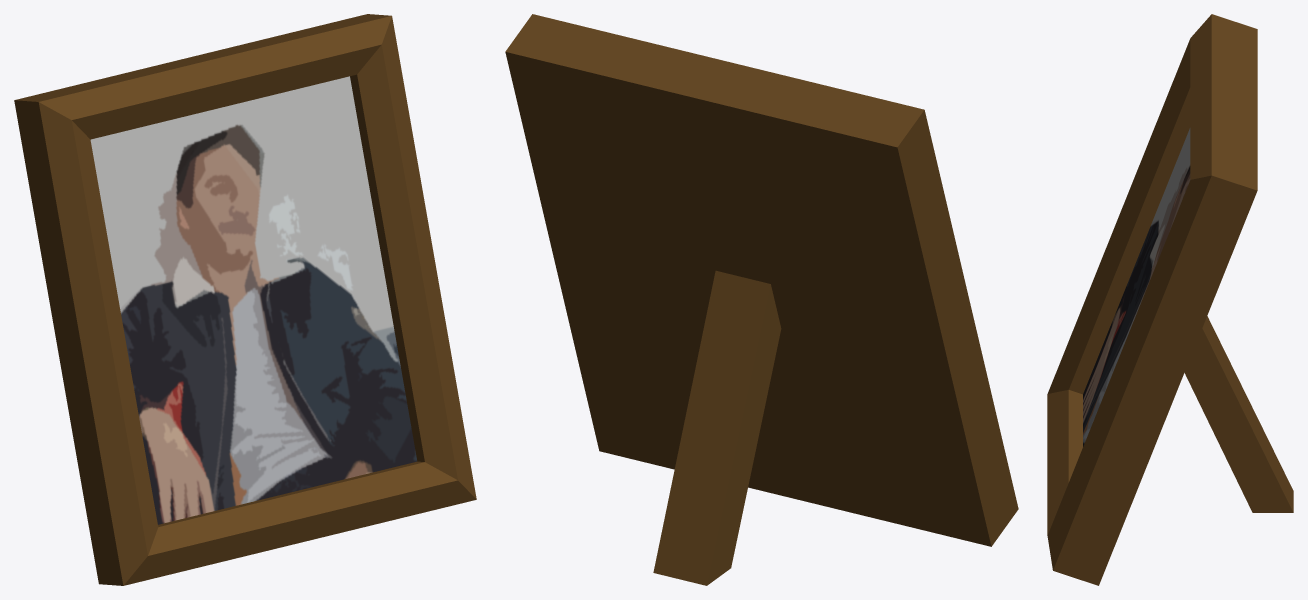
The model's file is painting_6.glb.
3 renders of one model, left to right at view 1: azimuth 30°, elevation 25°; view 2: azimuth 150°, elevation 25°; view 3: azimuth 270°, elevation 25°, orthographic. The views are drawn at different scales.
Visible parts, largest first — view 1: Painting Small 5; view 2: Painting Small 5; view 3: Painting Small 5.
Boxes of the visible parts, x1,y1,x2,y2 form: Painting Small 5: [14, 14, 476, 585]; Painting Small 5: [505, 14, 1018, 585]; Painting Small 5: [1047, 14, 1293, 585].
Size of the model in its own units: 0.2078 by 0.2461 by 0.1337.
2 materials, 2 textured.
